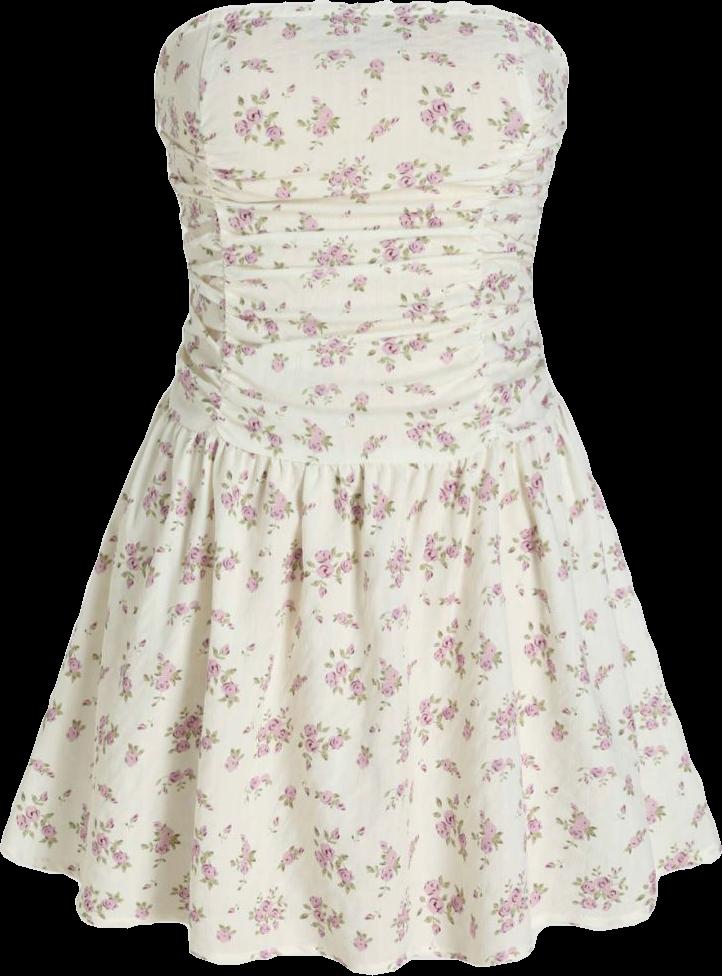Bodice: (153, 0, 572, 472)
Hemline: (0, 844, 721, 974)
Neckline: (150, 0, 571, 87)
Skirt: (0, 408, 721, 974)
Waistline: (150, 404, 576, 478)
